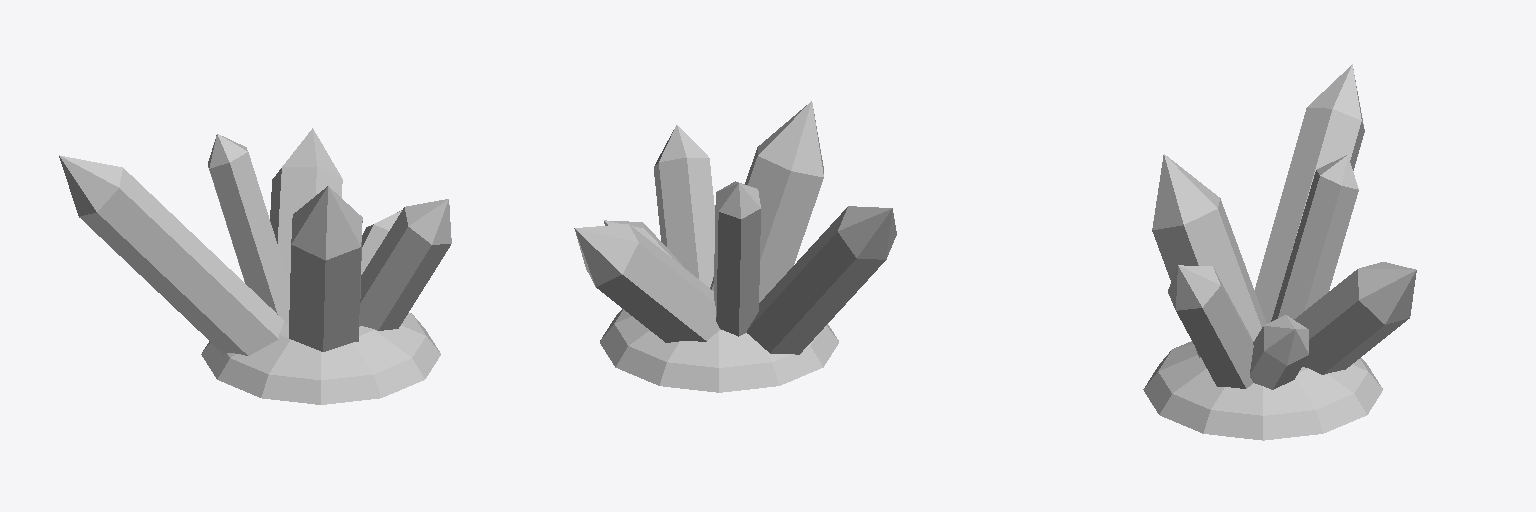
Rendered from CrystalTextured.obj.
3 views of the same model, side by side, from view 1: azimuth 30°, elevation 25°; view 2: azimuth 150°, elevation 25°; view 3: azimuth 270°, elevation 25° (orthographic).
Parts seen in each view (by area): view 1: g Cylinder001_Cylinder001; view 2: g Cylinder001_Cylinder001; view 3: g Cylinder001_Cylinder001.
Part boxes in pixels (bbox=[...]): g Cylinder001_Cylinder001: bbox=[59, 128, 451, 404]; g Cylinder001_Cylinder001: bbox=[574, 101, 896, 392]; g Cylinder001_Cylinder001: bbox=[1143, 64, 1416, 440].
Bounding box in the file's own units: 132 × 89.13 × 97.49.